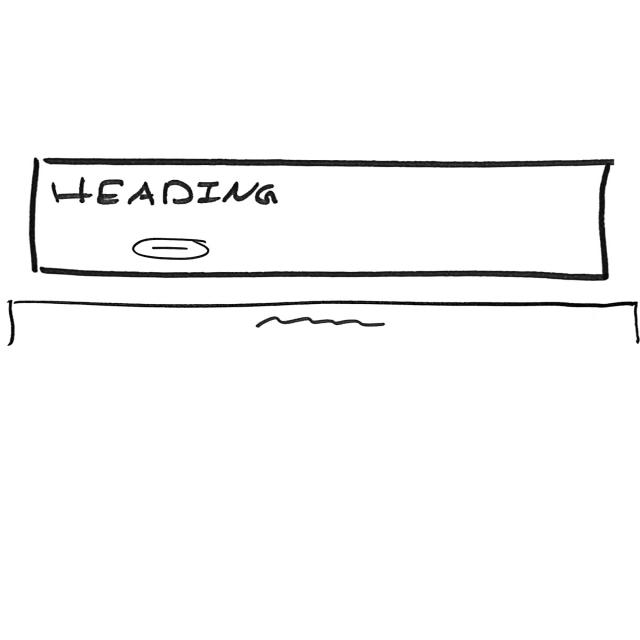container: (29, 156, 614, 283)
icon-button: (130, 237, 212, 263)
label: (51, 176, 283, 208)
text: (254, 316, 391, 332)
